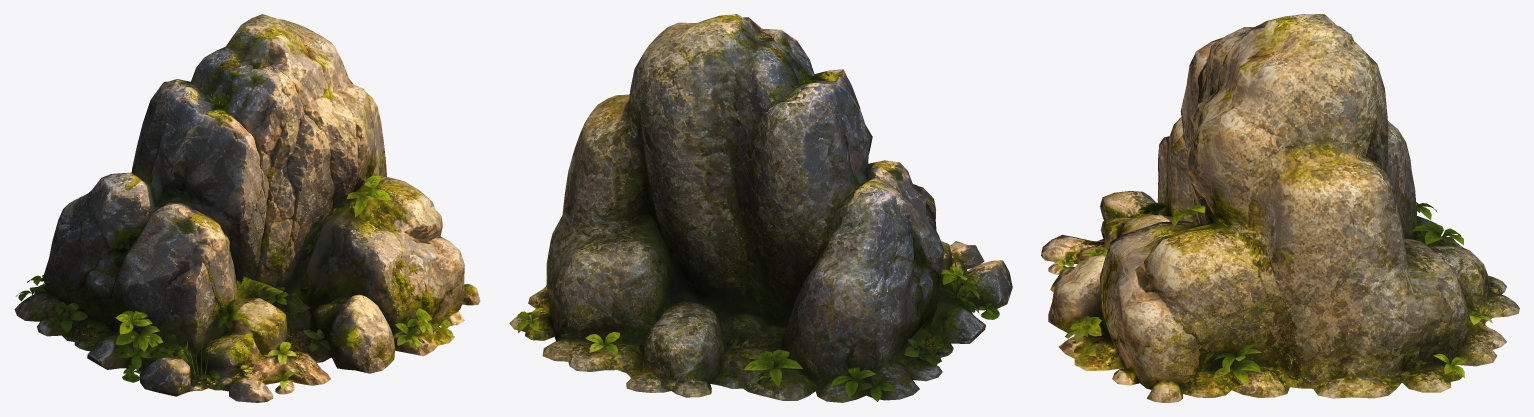
File: rock+formation+3d+model.fbx
The picture shows the model from 3 angles, left to right: view 1: azimuth 30°, elevation 25°; view 2: azimuth 150°, elevation 25°; view 3: azimuth 270°, elevation 25°; orthographic projection. The views are drawn at different scales.
Visible parts, largest first — view 1: tripo_6feeafd7_f7c0_4c8d_a871_d05b3092faab; view 2: tripo_6feeafd7_f7c0_4c8d_a871_d05b3092faab; view 3: tripo_6feeafd7_f7c0_4c8d_a871_d05b3092faab.
Part boxes in pixels (x1,y1,x2,y2): tripo_6feeafd7_f7c0_4c8d_a871_d05b3092faab: [14, 14, 480, 402]; tripo_6feeafd7_f7c0_4c8d_a871_d05b3092faab: [509, 14, 1012, 402]; tripo_6feeafd7_f7c0_4c8d_a871_d05b3092faab: [1041, 14, 1519, 402].
Size of the model in its own units: 0.9995 by 0.689 by 0.9995.
